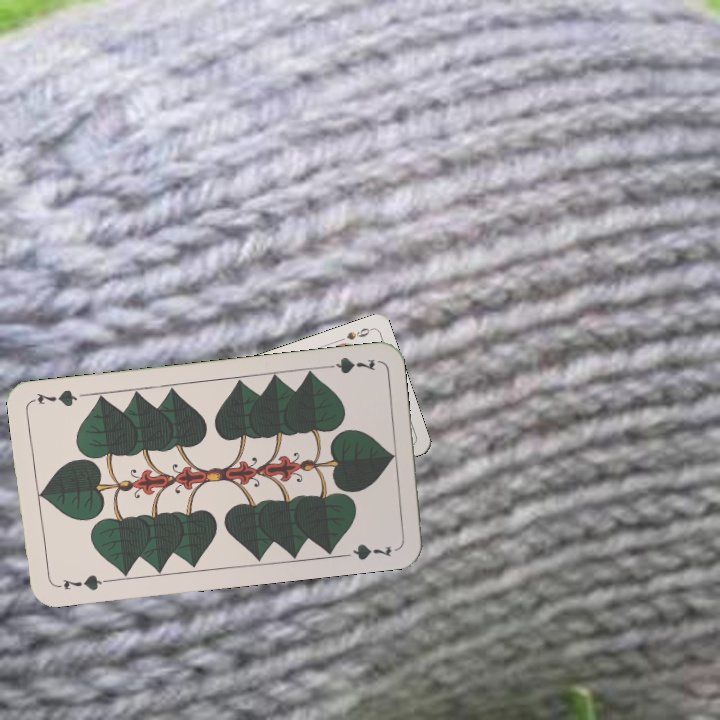G7: (319, 353, 378, 377), (52, 570, 111, 593)
S9: (342, 324, 375, 343)
